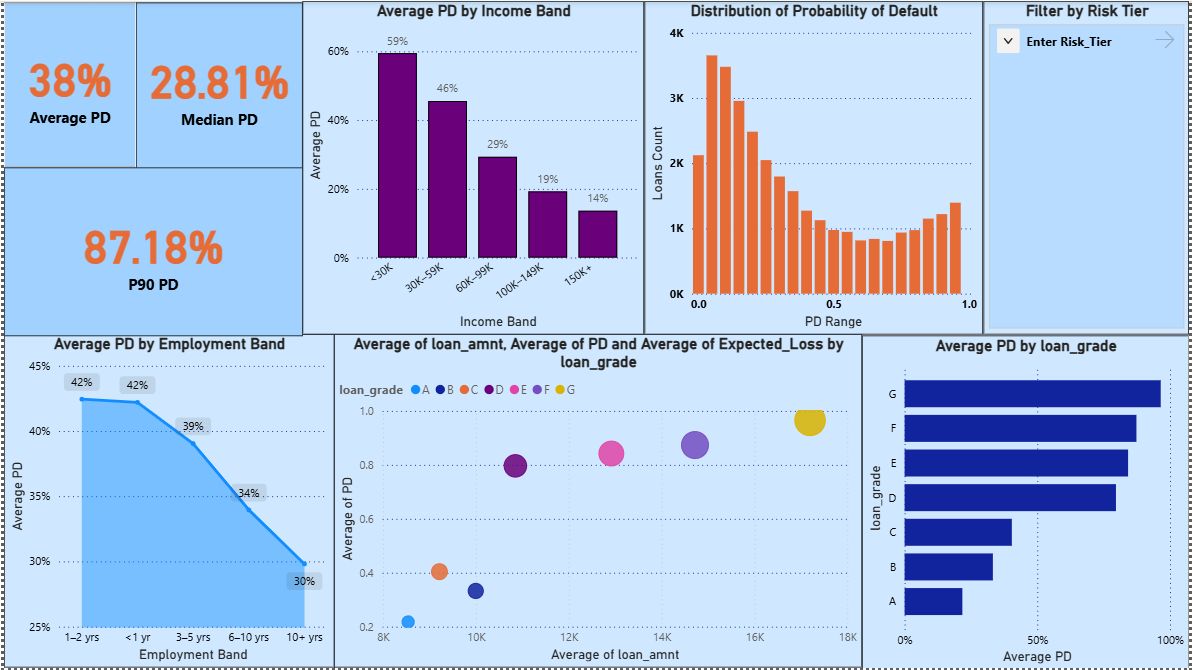

The page's visual inventory and layout, read from the dashboard file:
{"tool":"powerbi","page":{"name":"Probability of Default","canvas":[1280,720],"ordinal":1},"visuals":[{"type":"clusteredColumnChart","title":"Distribution of Probability of Default","fields":{"Category":["credit_scored.PD (bins)"],"Y":["credit_metrics.Loans Count"]},"box":[691.4,0,365.3,359.9],"z":0},{"type":"lineChart","fields":{"Category":["credit_scored.Employment Band"],"Y":["credit_metrics.Average PD"]},"box":[0,359.9,356.4,359.9],"z":1000},{"type":"clusteredColumnChart","fields":{"Category":["credit_scored.Income Band"],"Y":["credit_metrics.Average PD"]},"box":[322.5,0,368.9,359.9],"z":2000},{"type":"scatterChart","fields":{"X":["Avg(credit_scored.loan_amnt)"],"Size":["Avg(credit_scored.Expected_Loss)"],"Y":["credit_scored.PD"],"Series":["credit_scored.loan_grade"]},"box":[356.4,359.9,570.2,359.9],"z":3000},{"type":"card","fields":{"Values":["credit_metrics.Average PD"]},"box":[0,1.8,142.6,178.2],"z":4000},{"type":"card","fields":{"Values":["credit_scored.Median PD"]},"box":[142.6,1.8,180,181.8],"z":5000},{"type":"card","fields":{"Values":["credit_scored.P90 PD"]},"box":[0,180,322.5,181.8],"z":6000},{"type":"textSlicer","title":"Filter by Risk Tier","fields":{"Values":["credit_scored.Risk_Tier"]},"box":[1056.7,0,222.7,359.9],"z":7000},{"type":"clusteredBarChart","fields":{"Category":["credit_scored.loan_grade"],"Y":["credit_metrics.Average PD"]},"box":[925.7,360.5,353.5,360.5],"z":8000}]}

Visuals, with their boxes in screenshot pixels (x1, y1, x2, y2), scaled from the page's 1280x720 canvas onto the 1192x670 screenshot:
"Distribution of Probability of Default" clusteredColumnChart: [left=644, top=0, right=984, bottom=335]
lineChart - credit_scored.Employment Band x credit_metrics.Average PD: [left=0, top=335, right=332, bottom=669]
clusteredColumnChart - credit_scored.Income Band x credit_metrics.Average PD: [left=300, top=0, right=644, bottom=335]
scatterChart - Avg(credit_scored.loan_amnt) x Avg(credit_scored.Expected_Loss): [left=332, top=335, right=863, bottom=669]
card - credit_metrics.Average PD: [left=0, top=2, right=133, bottom=168]
card - credit_scored.Median PD: [left=133, top=2, right=300, bottom=171]
card - credit_scored.P90 PD: [left=0, top=168, right=300, bottom=337]
"Filter by Risk Tier" textSlicer: [left=984, top=0, right=1191, bottom=335]
clusteredBarChart - credit_scored.loan_grade x credit_metrics.Average PD: [left=862, top=335, right=1191, bottom=669]
